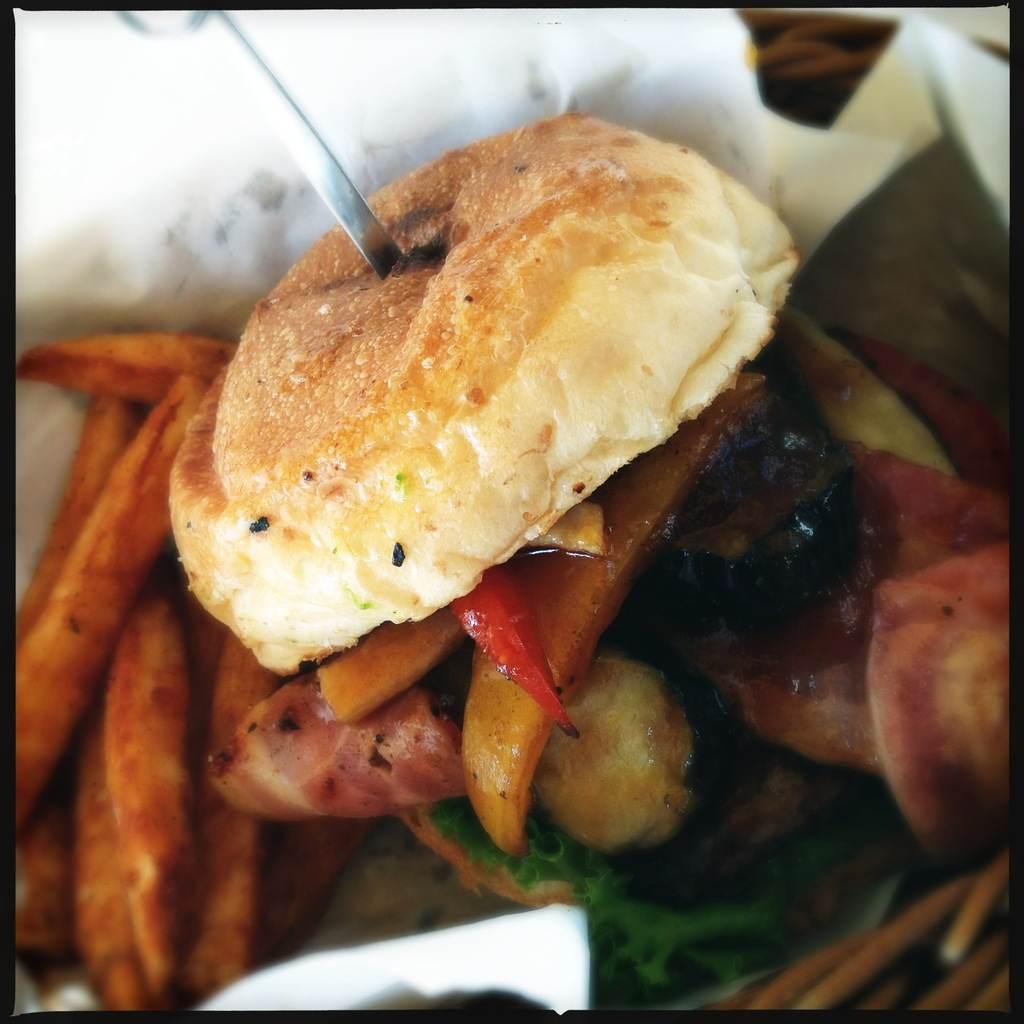Hamburger: (165, 112, 1008, 1008)
